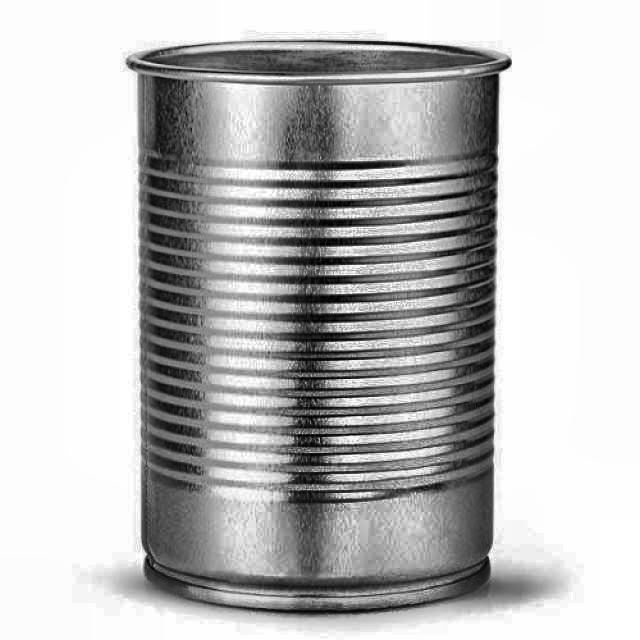metal: (125, 36, 513, 616)
